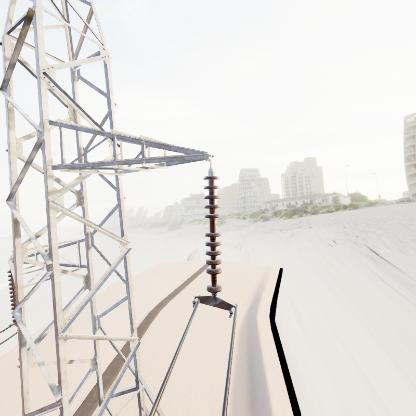insulator: (201, 171, 227, 297)
